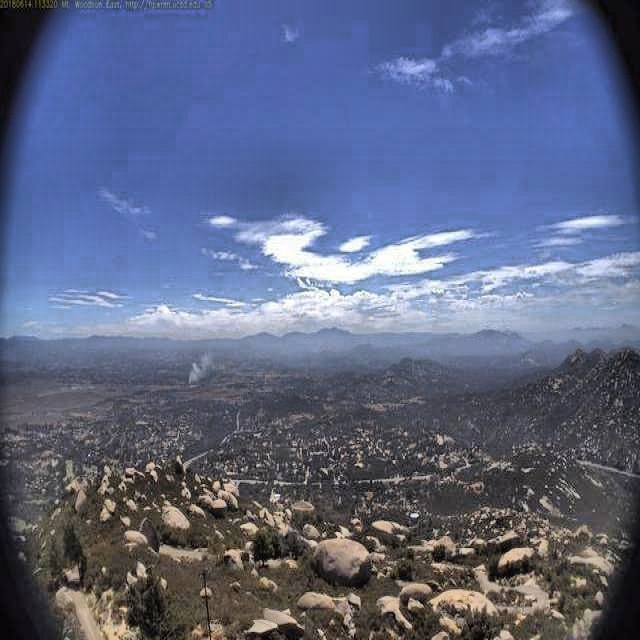smoke: (184, 337, 225, 388)
